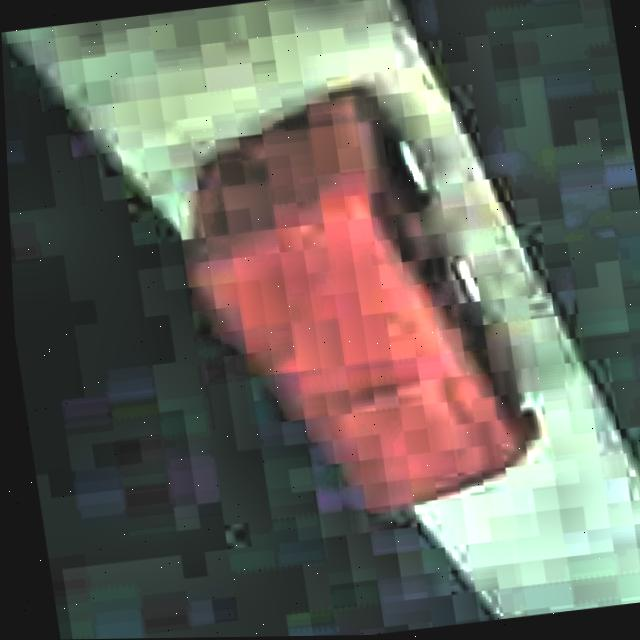bus: (161, 66, 550, 535)
